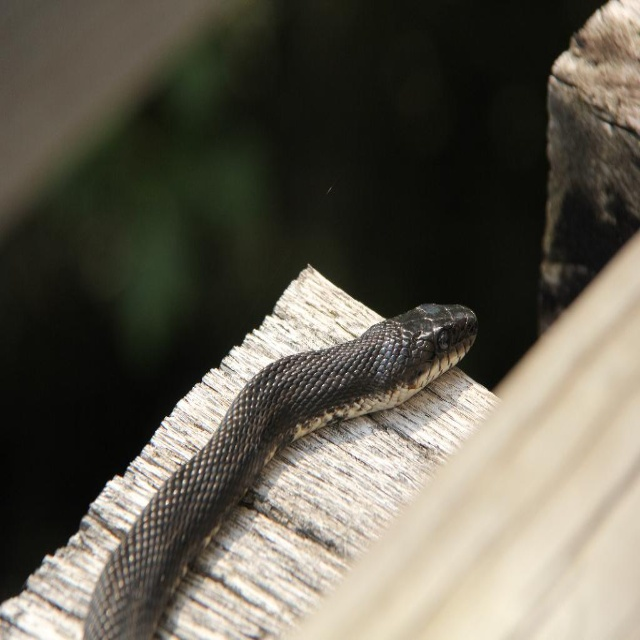Snake: (81, 298, 480, 639)
